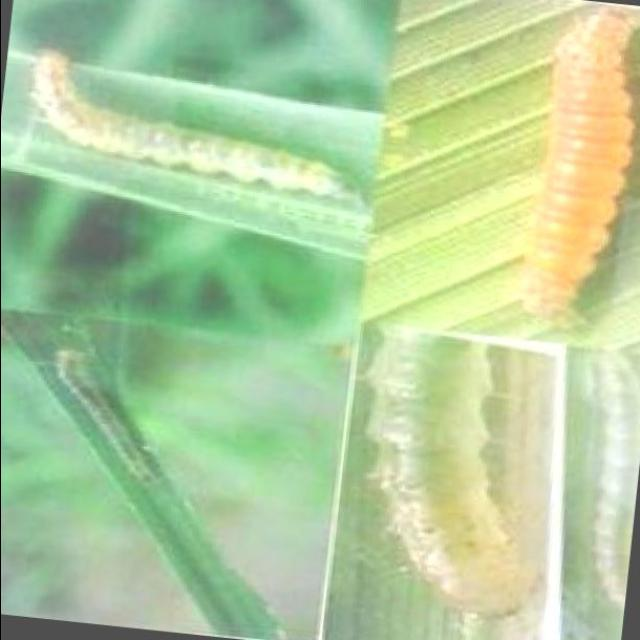leaf folder: (30, 52, 347, 196), (380, 353, 525, 615), (525, 8, 633, 318), (51, 345, 163, 488)
